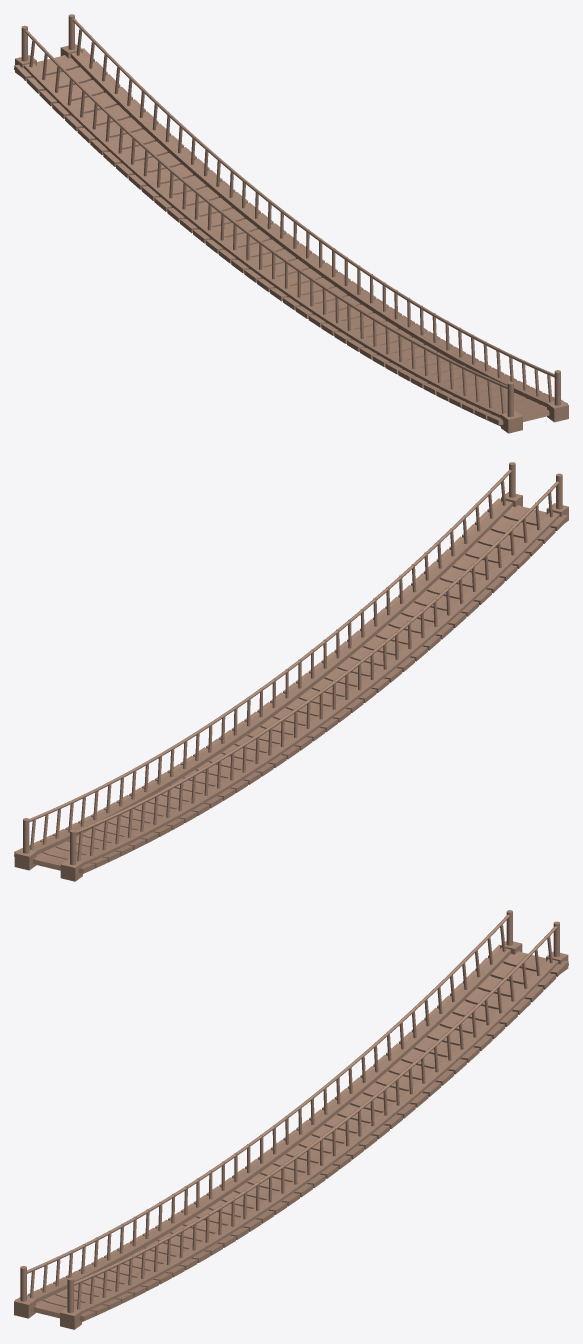
The model's file is Ponte.fbx.
3 views of the same model, one above another, from view 1: azimuth 30°, elevation 25°; view 2: azimuth 150°, elevation 25°; view 3: azimuth 330°, elevation 25° (orthographic).
Visible parts, largest first — view 1: polySurface297; view 2: polySurface297; view 3: polySurface297.
Part boxes in pixels (<box>): polySurface297: <box>14,14,568,433</box>; polySurface297: <box>14,462,568,881</box>; polySurface297: <box>14,910,568,1329</box>.
Size of the model in its own units: 7.35 by 8.18 by 90.46.
